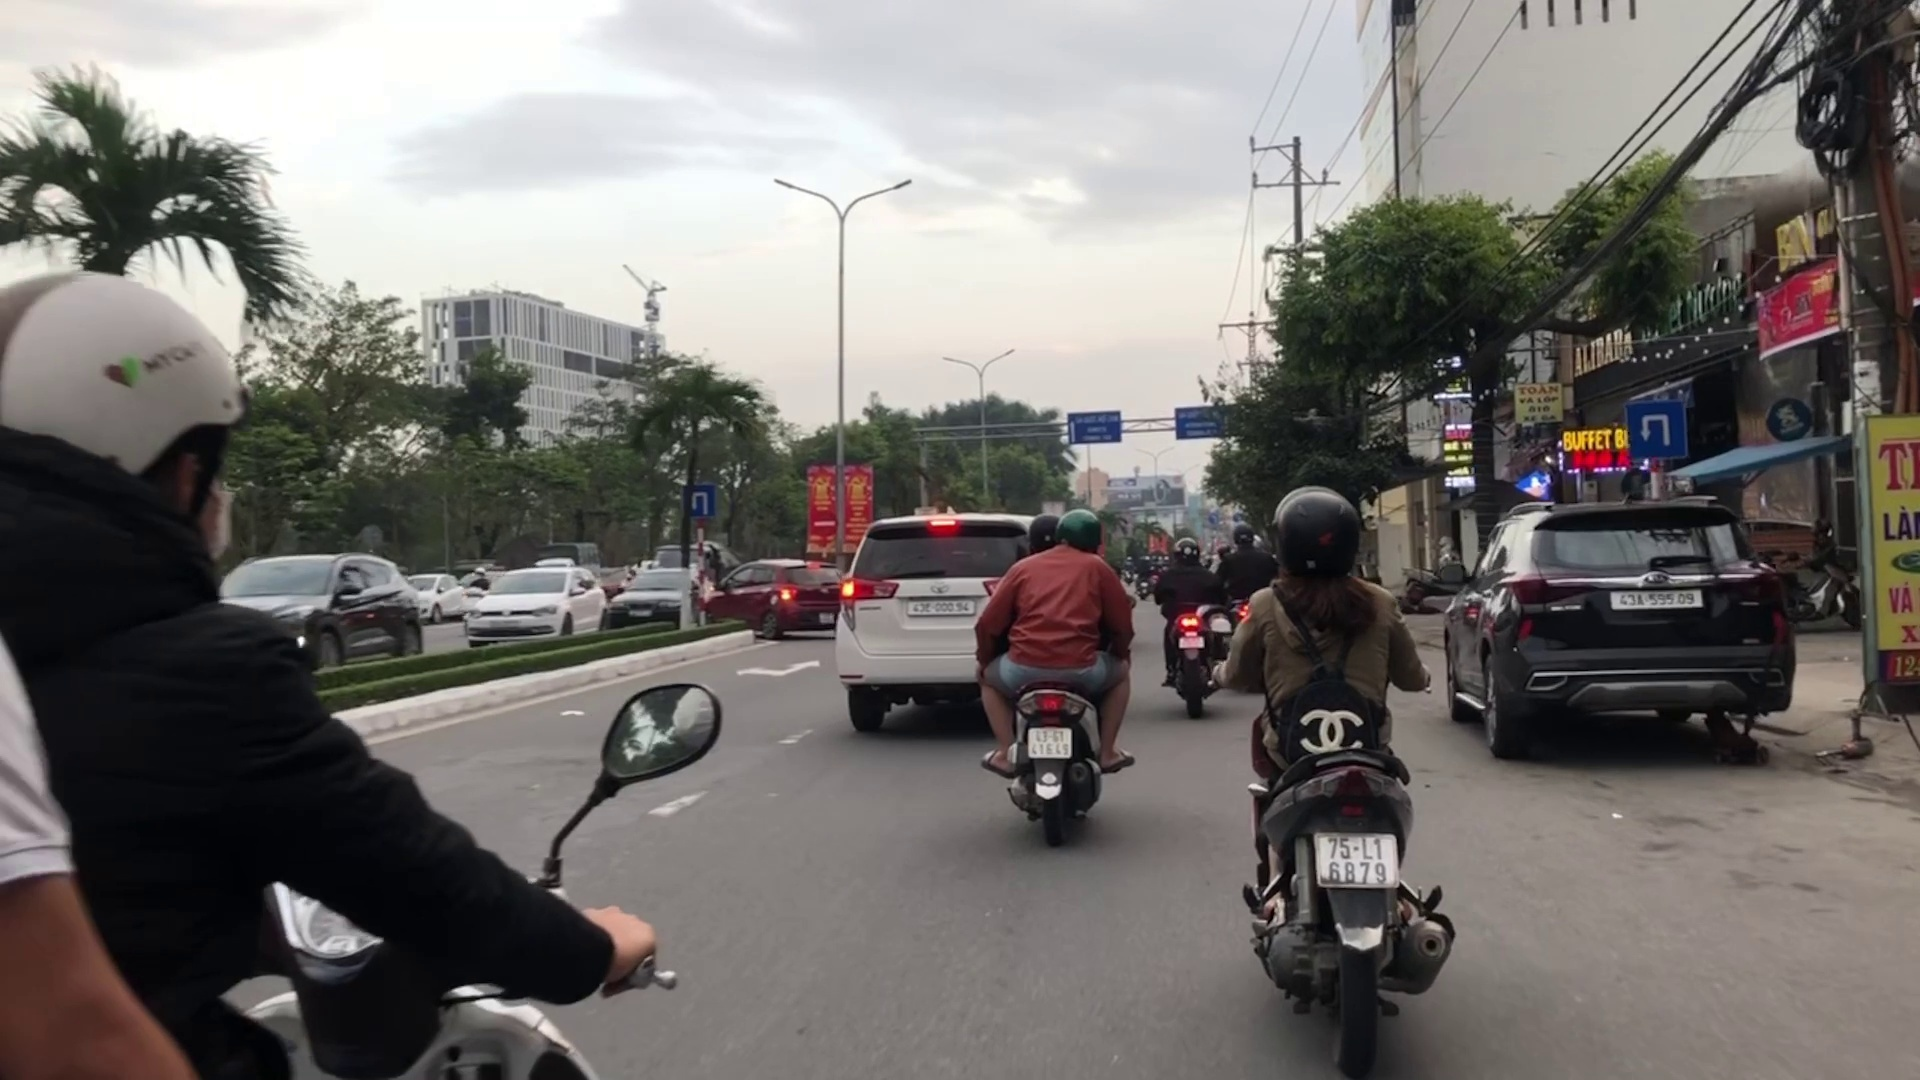Bien khac: (1623, 397, 1688, 462), (687, 483, 713, 516)
